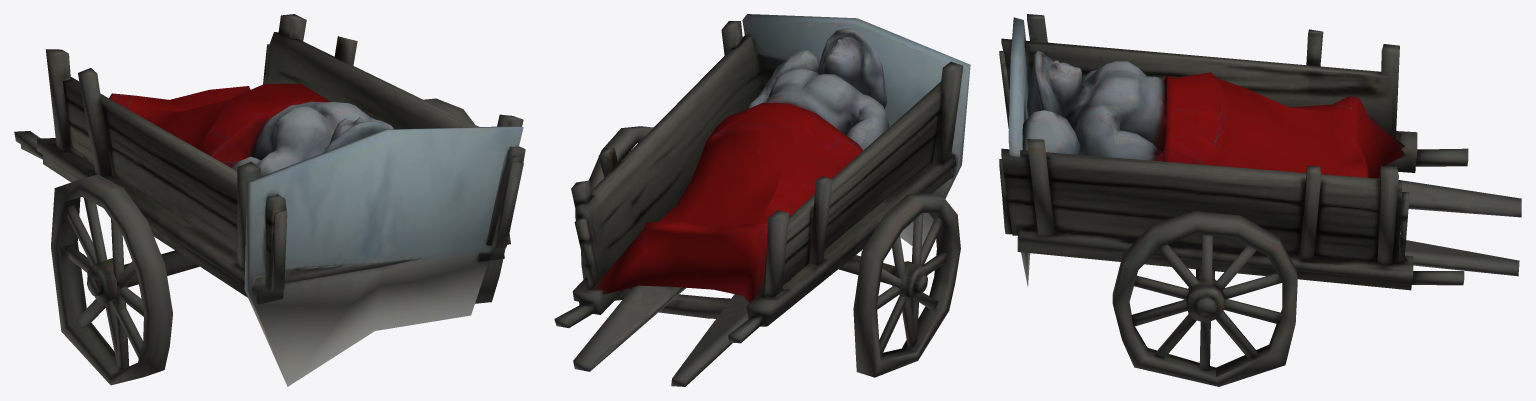
The model's file is cart_corpse.glb.
The picture shows the model from 3 angles, left to right: view 1: azimuth 30°, elevation 25°; view 2: azimuth 150°, elevation 25°; view 3: azimuth 270°, elevation 25°; orthographic projection. The views are drawn at different scales.
Visible parts, largest first — view 1: model; view 2: model; view 3: model.
Boxes of the visible parts, <box> form: model: <box>14,14,525,386</box>; model: <box>554,14,970,386</box>; model: <box>999,14,1521,386</box>.
Size of the model in its own units: 1.35 by 1 by 1.84.
1 material, 1 textured.
